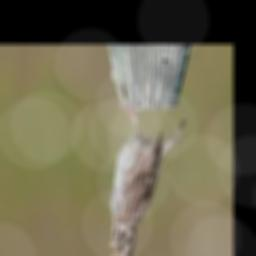Sparrow: (107, 108, 186, 256)
